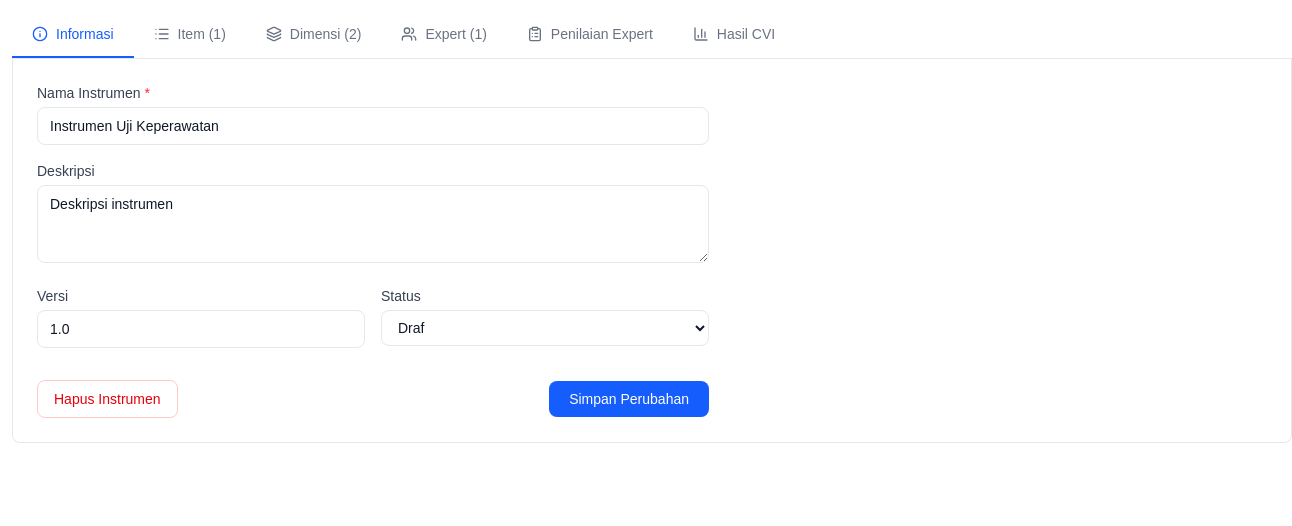
Test: InstrumentDetailTabs › harus menampilkan error saat simpan gagal
This screenshot has width=1292, height=526.
What coordinates should you click on to do the following:
click the button "Simpan Perubahan"
I would click on:
 (629, 399)
Its box is [549,381,709,417].
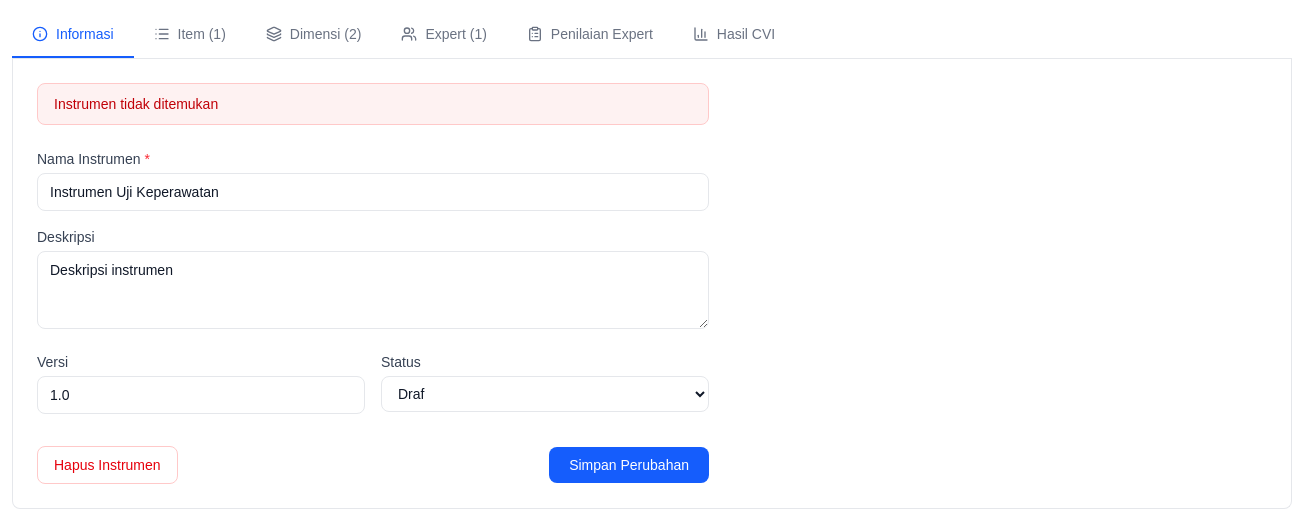
expect the text "Instrumen tidak ditemukan" is shown: met, box [37,83,709,125]
